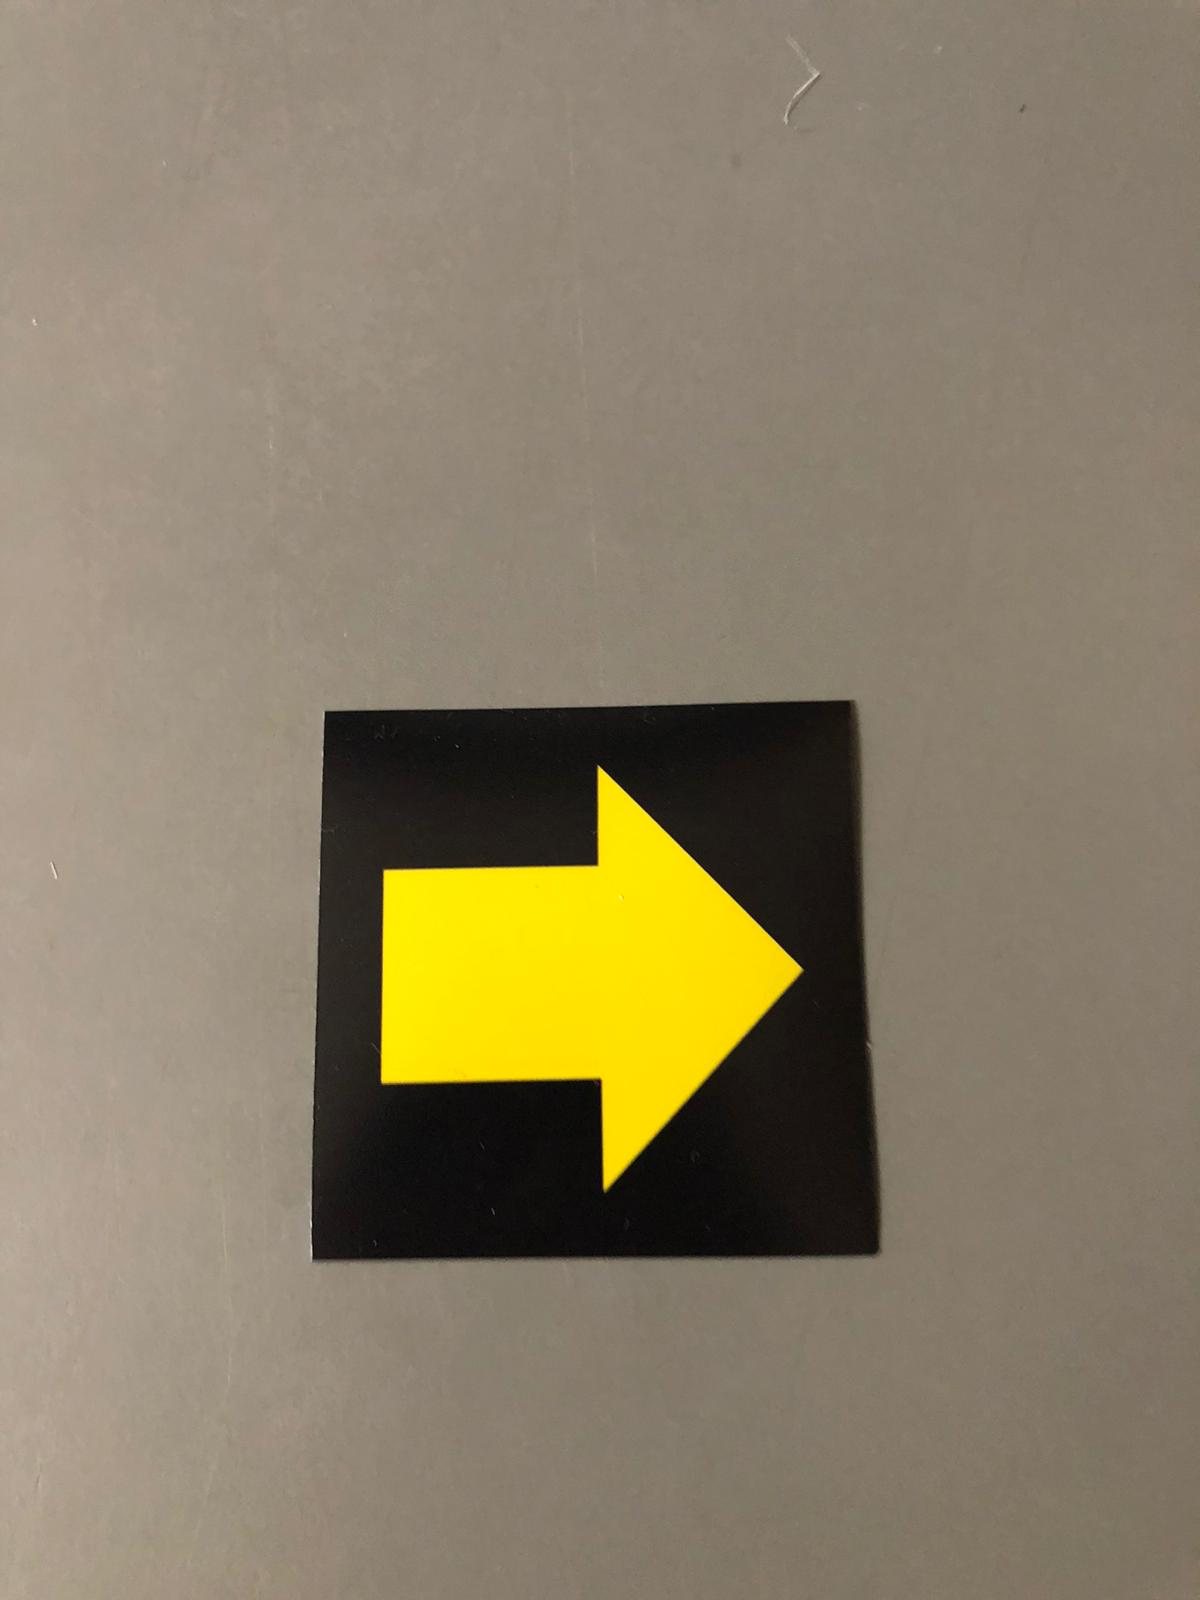Right Arrow: (326, 740, 865, 1250)
